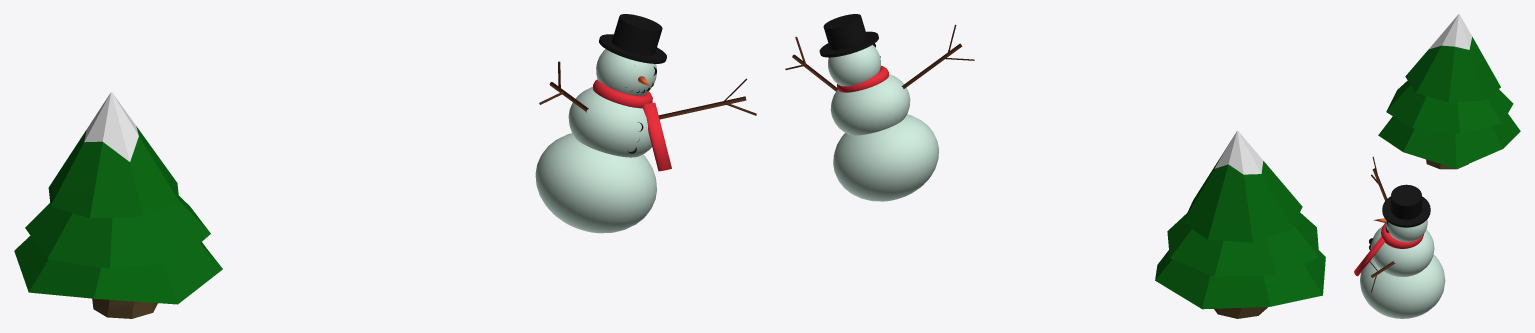
Rendered from trees_and_snowman.fbx.
3 renders of one model, left to right at view 1: azimuth 30°, elevation 25°; view 2: azimuth 150°, elevation 25°; view 3: azimuth 270°, elevation 25°, orthographic. The views are drawn at different scales.
Parts seen in each view (by area): view 1: tree, Snowman.001; view 2: tree, Snowman.001; view 3: tree, Snowman.001.
Boxes of the visible parts, x1=… form: tree: x1=14, y1=92, x2=222, y2=318; Snowman.001: x1=535, y1=14, x2=756, y2=233; tree: x1=1155, y1=130, x2=1325, y2=318; Snowman.001: x1=785, y1=14, x2=974, y2=201; tree: x1=1378, y1=14, x2=1520, y2=169; Snowman.001: x1=1354, y1=156, x2=1445, y2=318.
Size of the model in its own units: 4174 by 1270 by 1294.
